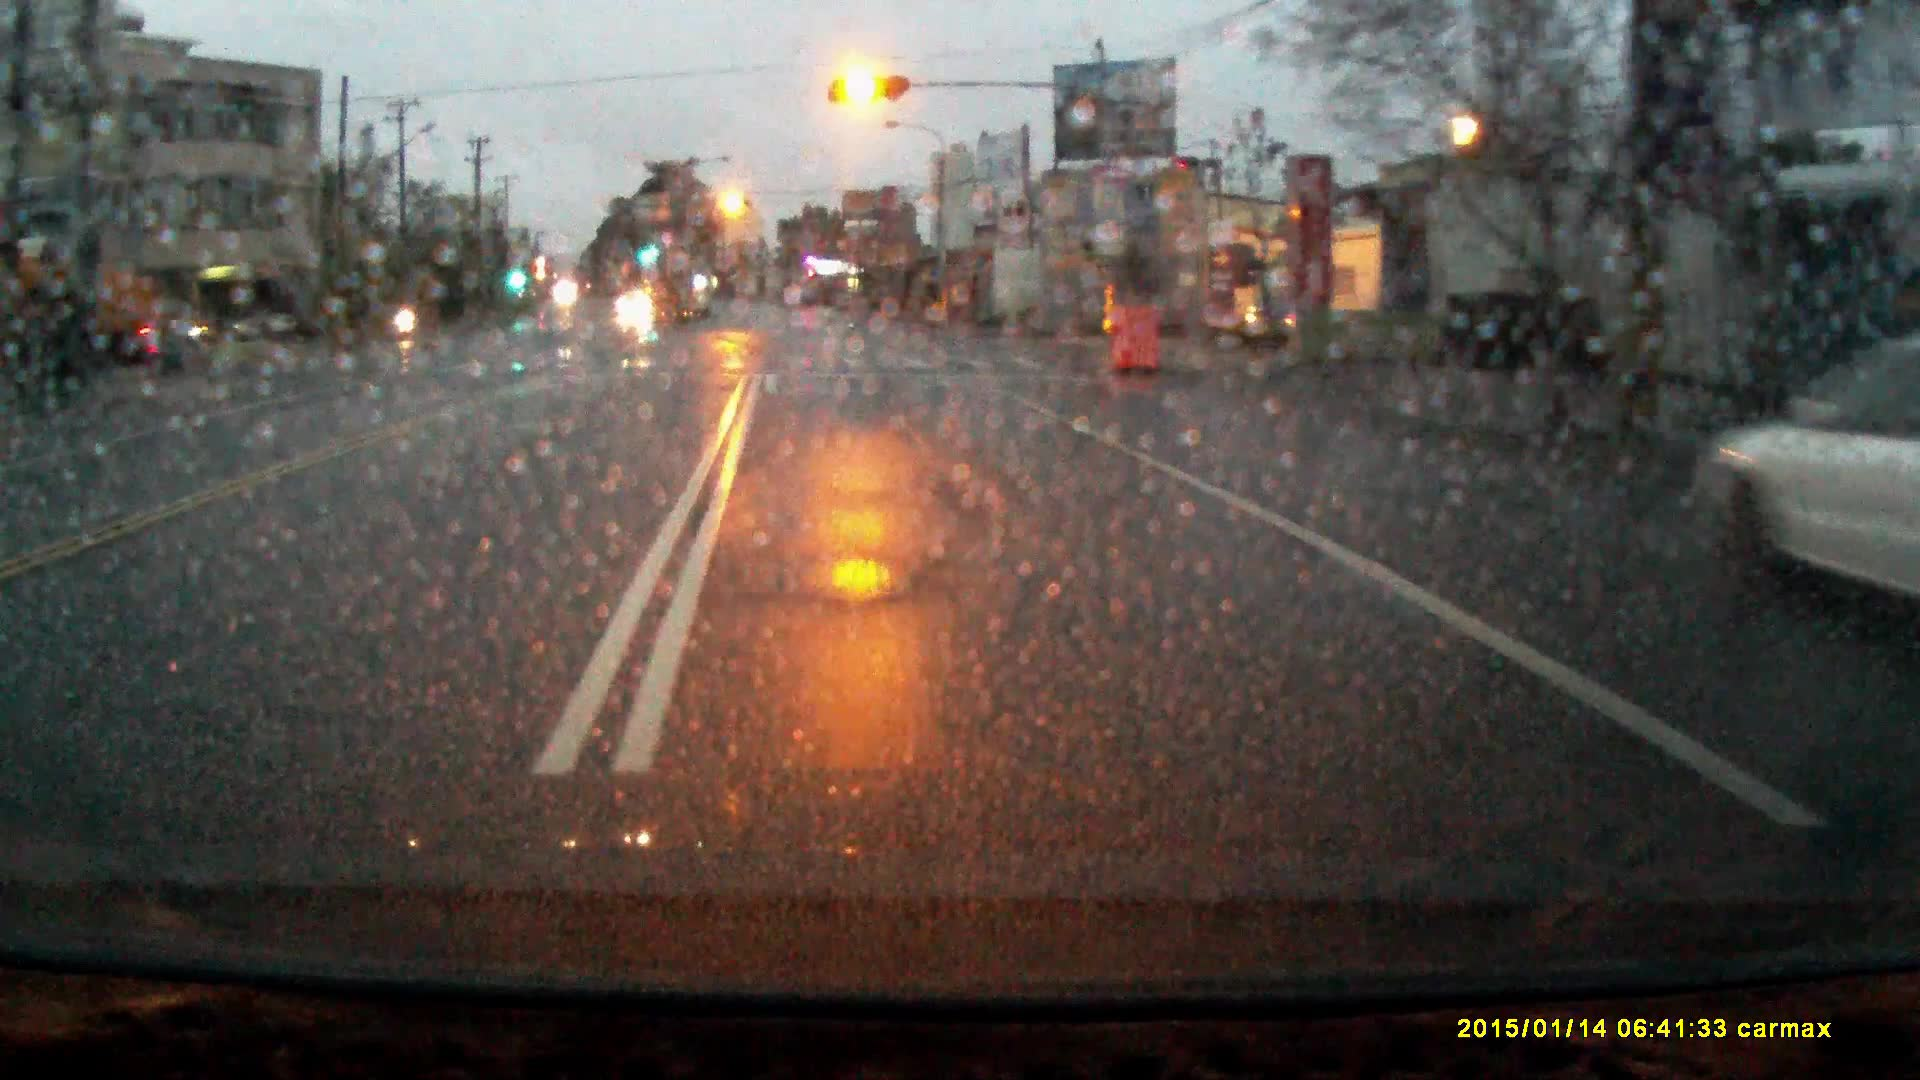rider: (391, 279, 419, 346)
vehicle: (1703, 350, 1920, 594), (1, 258, 163, 367), (617, 291, 653, 319)
